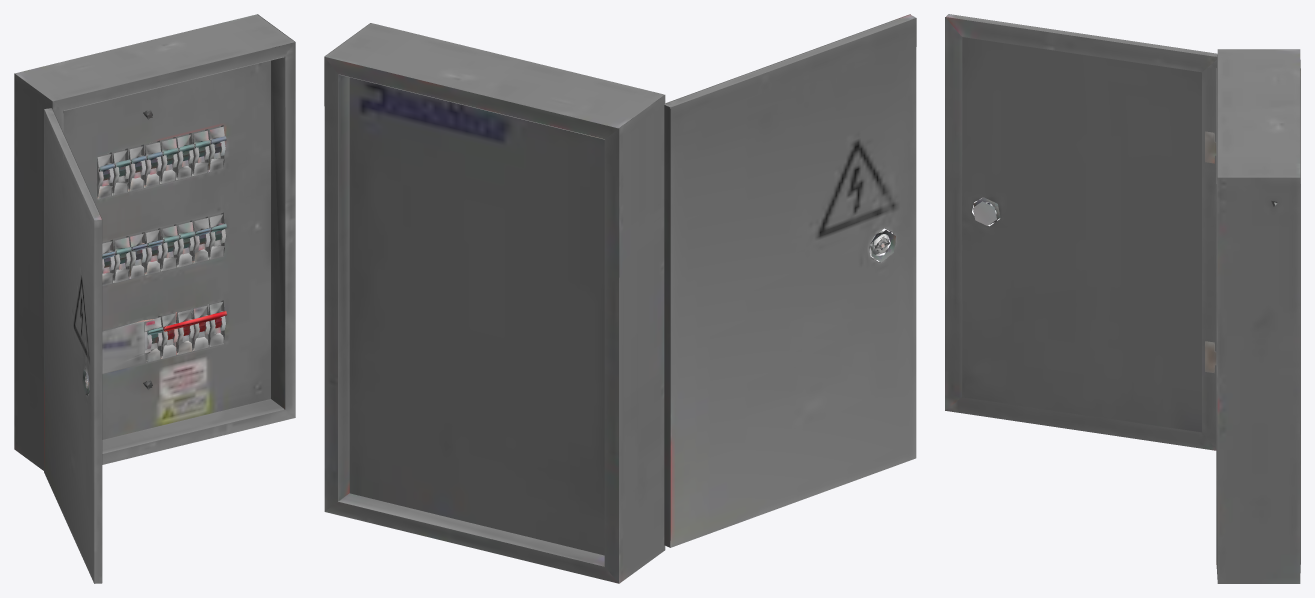
The model's file is power_box_01.glb.
The picture shows the model from 3 angles, left to right: view 1: azimuth 30°, elevation 25°; view 2: azimuth 150°, elevation 25°; view 3: azimuth 270°, elevation 25°; orthographic projection. The views are drawn at different scales.
Parts seen in each view (by area): view 1: power_box_01_box; view 2: power_box_01_box; view 3: power_box_01_box.
Part boxes in pixels (x1=…): power_box_01_box: x1=14, y1=14, x2=295, y2=583; power_box_01_box: x1=324, y1=14, x2=916, y2=583; power_box_01_box: x1=945, y1=14, x2=1300, y2=583.
Size of the model in its own units: 0.4598 by 0.5037 by 0.3997.
Materials: 1 (1 with a texture image).
